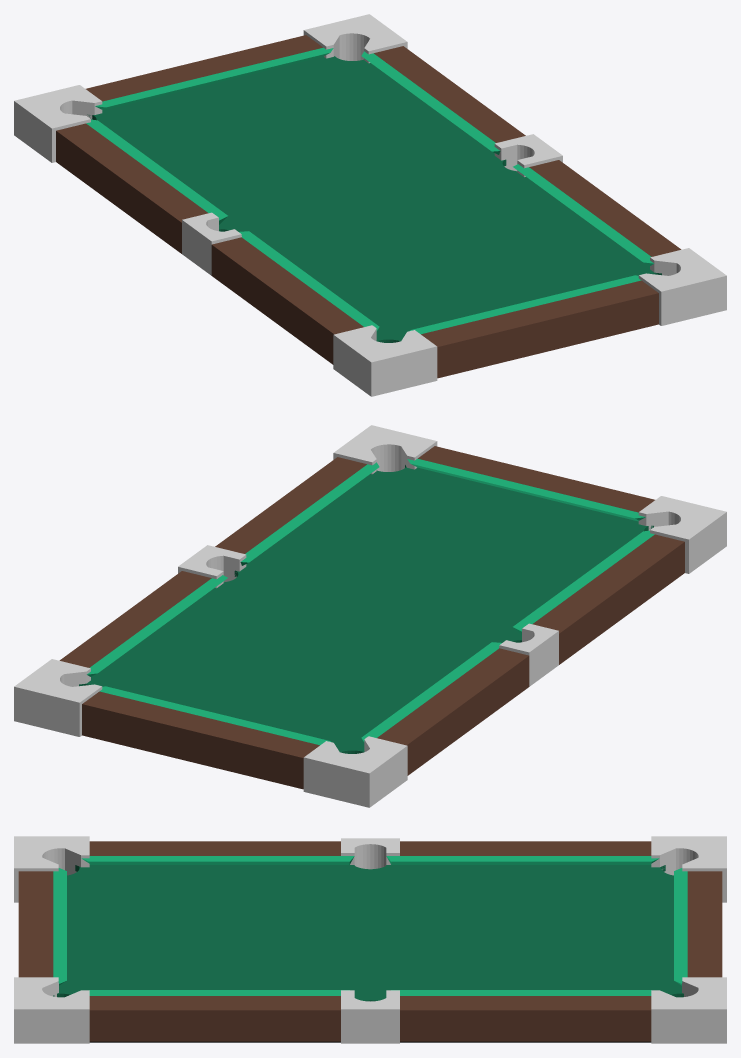
Rendered from table.glb.
3 renders of one model, top to bottom at view 1: azimuth 30°, elevation 25°; view 2: azimuth 150°, elevation 25°; view 3: azimuth 270°, elevation 25°, orthographic.
Visible parts, largest first — view 1: Table_Bed, Rail.006, Rail.001, Rail.002, Pocket_Liners, Pocket_Liners.001, Pocket_Liners.002, Rail.004, Rail.005, Rail.003, Pocket_Liners.003, Cushions.005 (+7 smaller); view 2: Table_Bed, Rail.004, Rail.002, Rail.001, Pocket_Liners.002, Pocket_Liners.003, Pocket_Liners, Rail.006, Rail.003, Rail.005, Pocket_Liners.001, Cushions.001 (+7 smaller); view 3: Table_Bed, Rail.003, Rail.005, Pocket_Liners.001, Pocket_Liners.003, Rail.004, Rail.006, Rail.001, Rail.002, Pocket_Liners.005, Pocket_Liners.002, Pocket_Liners (+8 smaller).
Part boxes in pixels (left/top/right/bottom): Table_Bed: left=87, top=56, right=661, bottom=342; Rail.006: left=421, top=280, right=658, bottom=378; Rail.001: left=56, top=123, right=208, bottom=253; Rail.002: left=211, top=237, right=363, bottom=364; Pocket_Liners: left=333, top=325, right=437, bottom=396; Pocket_Liners.001: left=638, top=248, right=726, bottom=325; Pocket_Liners.002: left=14, top=85, right=102, bottom=162; Rail.004: left=86, top=35, right=322, bottom=101; Rail.005: left=529, top=160, right=681, bottom=256; Rail.003: left=374, top=46, right=525, bottom=142; Pocket_Liners.003: left=303, top=14, right=407, bottom=63; Cushions.005: left=95, top=47, right=333, bottom=110; Table_Bed: left=79, top=465, right=653, bottom=753; Rail.004: left=82, top=691, right=319, bottom=789; Rail.002: left=532, top=534, right=684, bottom=664; Rail.001: left=377, top=648, right=529, bottom=775; Pocket_Liners.002: left=303, top=736, right=407, bottom=807; Pocket_Liners.003: left=14, top=659, right=102, bottom=736; Pocket_Liners: left=638, top=496, right=726, bottom=573; Rail.006: left=418, top=446, right=654, bottom=512; Rail.003: left=59, top=571, right=211, bottom=667; Rail.005: left=215, top=457, right=366, bottom=553; Pocket_Liners.001: left=333, top=425, right=437, bottom=474; Cushions.001: left=407, top=458, right=645, bottom=521; Table_Bed: left=53, top=865, right=683, bottom=1001; Rail.003: left=400, top=996, right=651, bottom=1041; Rail.005: left=89, top=996, right=340, bottom=1041; Pocket_Liners.001: left=14, top=977, right=89, bottom=1043; Pocket_Liners.003: left=651, top=977, right=726, bottom=1043; Rail.004: left=687, top=871, right=722, bottom=977; Rail.006: left=18, top=871, right=53, bottom=977; Rail.001: left=400, top=841, right=651, bottom=855; Rail.002: left=89, top=841, right=340, bottom=855; Pocket_Liners.005: left=341, top=990, right=399, bottom=1043; Pocket_Liners.002: left=651, top=836, right=726, bottom=902; Pocket_Liners: left=14, top=836, right=89, bottom=902.
Bounding box in the file's own units: 151 × 16.08 × 263.
